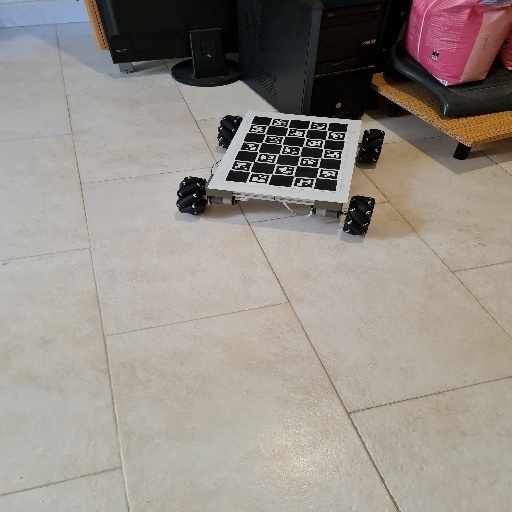Omniwheel: (177, 110, 386, 238)
